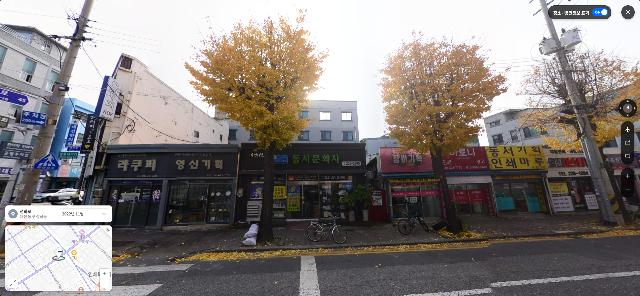ginkgo: (183, 5, 328, 244), (372, 23, 509, 236), (516, 27, 640, 219)
